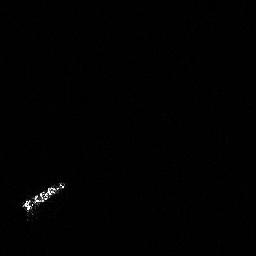ship: (17, 177, 68, 217)
